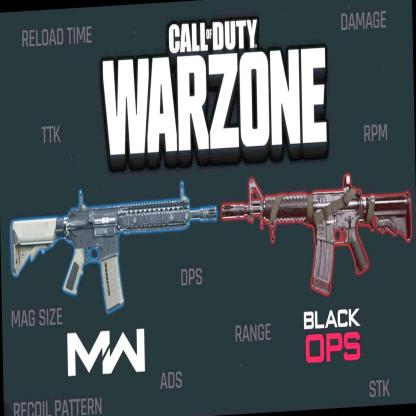rifle: (8, 175, 219, 317), (221, 169, 413, 294)
